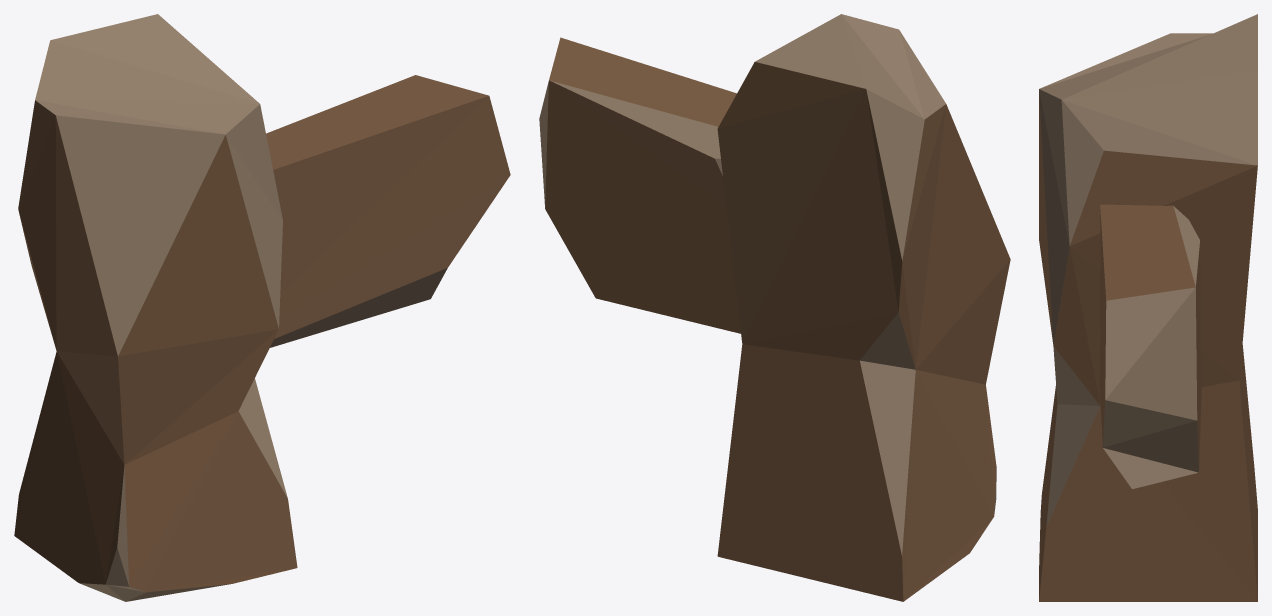
File: Railing_C_02.FBX
3 views of the same model, side by side, from view 1: azimuth 30°, elevation 25°; view 2: azimuth 150°, elevation 25°; view 3: azimuth 270°, elevation 25° (orthographic). The views are drawn at different scales.
Parts seen in each view (by area): view 1: Railing_C_02; view 2: Railing_C_02; view 3: Railing_C_02.
Boxes of the visible parts, x1,y1,x2,y2 form: Railing_C_02: (14, 14, 510, 601); Railing_C_02: (539, 14, 1010, 601); Railing_C_02: (1039, 14, 1257, 601).
Size of the model in its own units: 0.7958 by 0.8732 by 0.337.
